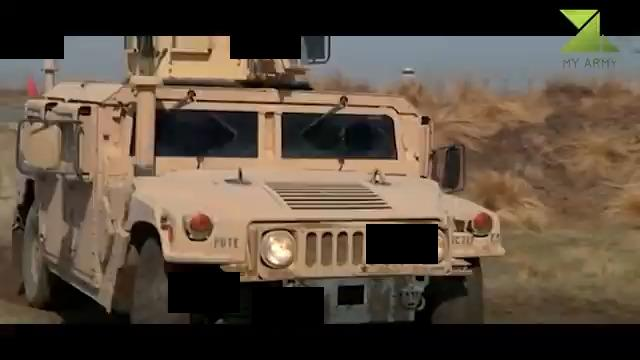MIL_HMMWV: (12, 78, 506, 332)
